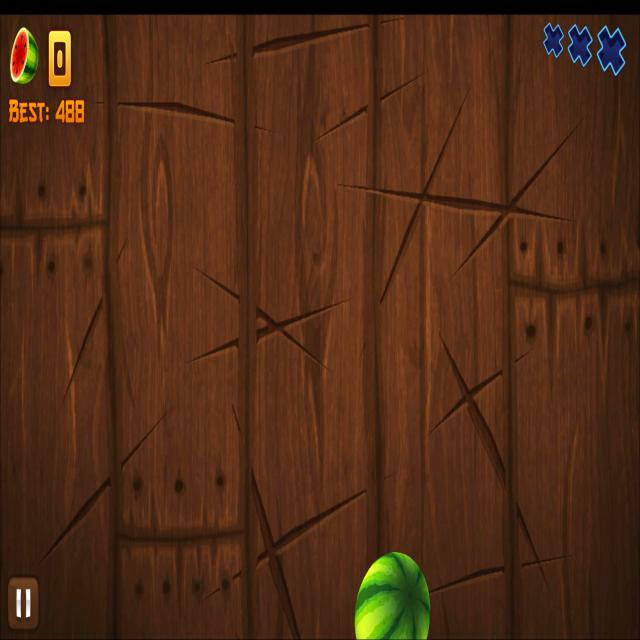fruit: (354, 550, 432, 640)
